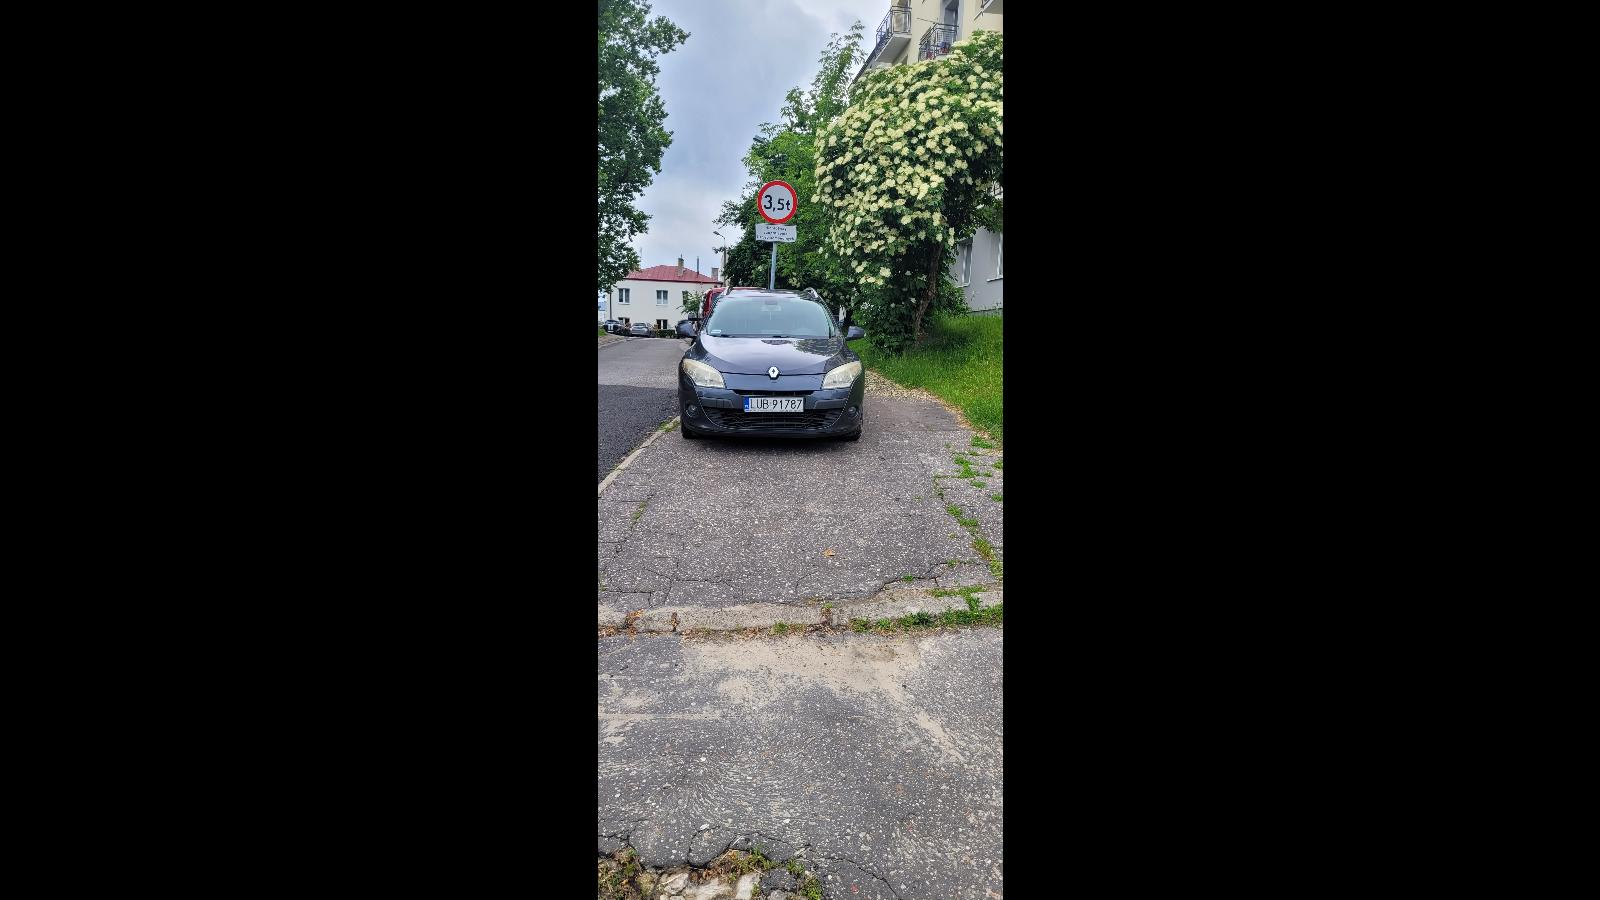plates: (742, 396, 804, 412)
